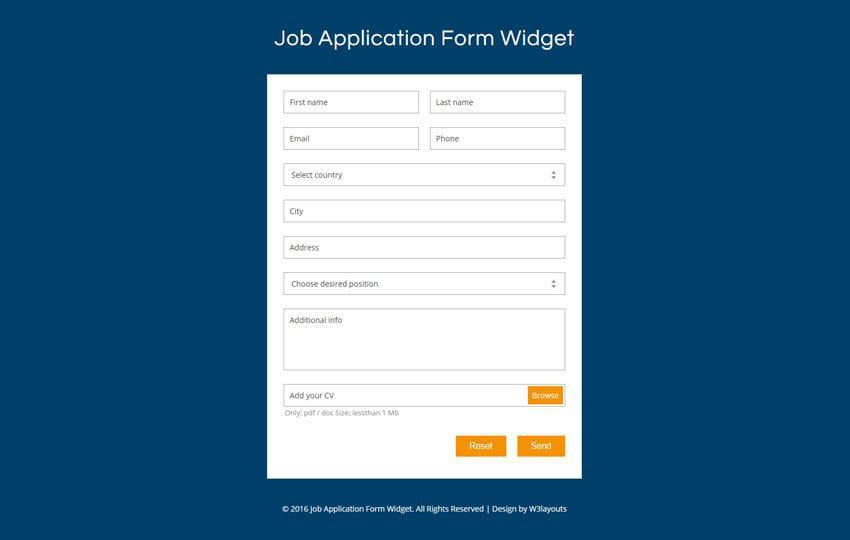button: (456, 437, 509, 459), (519, 436, 566, 458), (528, 387, 564, 405)
dropdown: (285, 274, 566, 296), (285, 165, 566, 186)
input: (285, 201, 566, 222), (285, 238, 566, 259), (284, 128, 420, 151), (431, 91, 566, 114), (284, 92, 419, 114), (431, 128, 566, 150)
